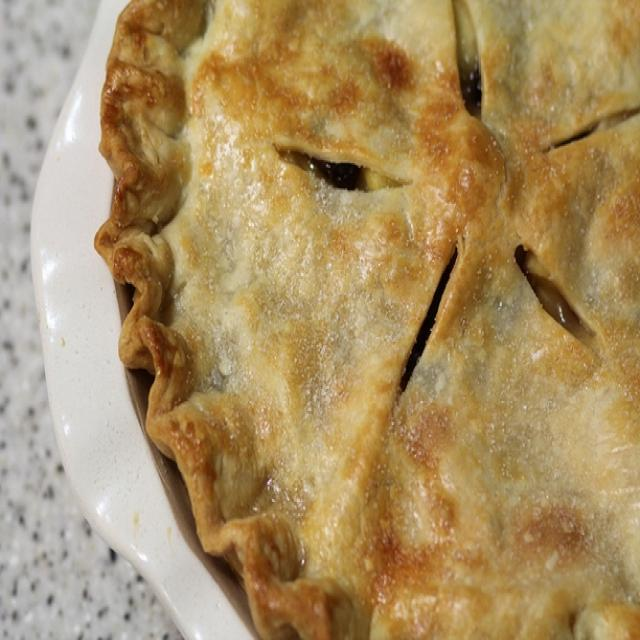Apple: (107, 7, 640, 635)
